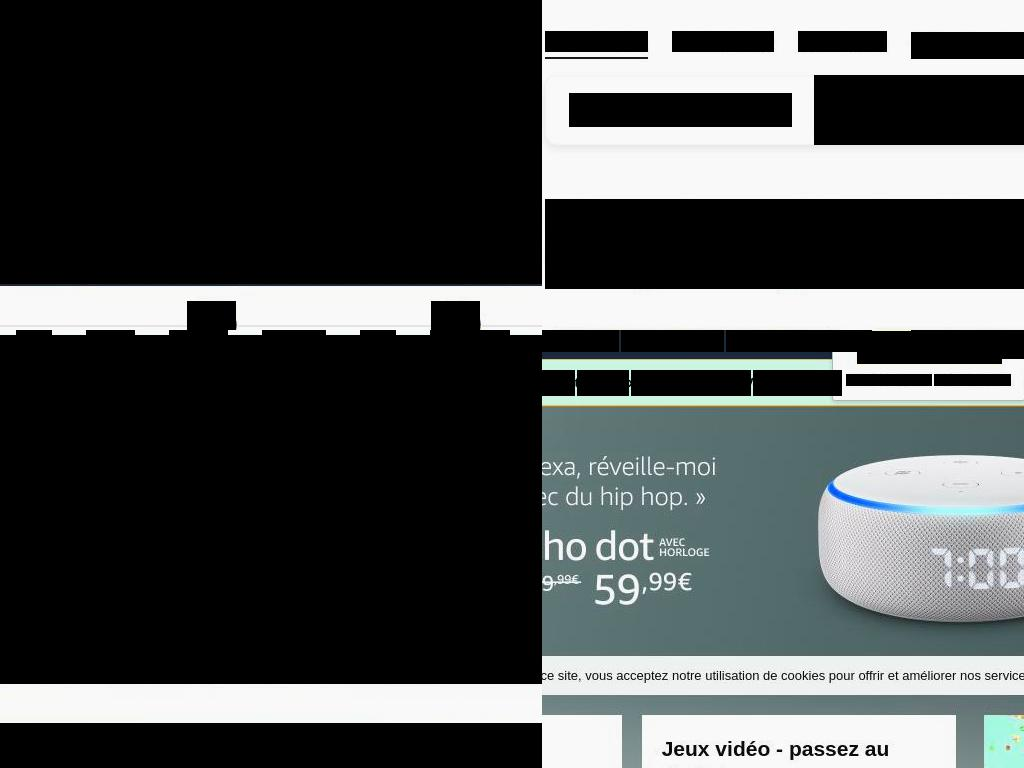button: (814, 75, 1024, 145), (857, 331, 1002, 364), (88, 603, 218, 639), (911, 330, 1024, 359), (726, 330, 872, 352), (680, 414, 802, 440), (631, 370, 751, 396), (691, 458, 810, 484), (911, 32, 1024, 59), (568, 414, 678, 440), (753, 370, 842, 396), (621, 330, 724, 352), (542, 458, 629, 484), (542, 330, 619, 352), (631, 458, 689, 484), (577, 370, 629, 396), (844, 370, 887, 396), (542, 370, 575, 396), (542, 414, 566, 440)
field: (569, 109, 792, 127)
heading: (545, 199, 1024, 289), (0, 515, 203, 594), (661, 735, 937, 768)
image: (0, 335, 542, 684), (0, 0, 542, 284), (0, 234, 542, 284), (911, 330, 1024, 359), (187, 301, 236, 330), (431, 301, 480, 330), (197, 616, 203, 627)
link: (934, 374, 1011, 386)
text: (0, 234, 542, 284), (542, 375, 1024, 390), (542, 668, 1024, 683), (858, 332, 1001, 362), (569, 93, 792, 109), (838, 109, 1024, 127), (911, 32, 1024, 59), (838, 93, 1024, 109), (545, 31, 648, 52), (672, 31, 774, 52), (798, 31, 887, 52), (38, 603, 88, 639), (103, 614, 197, 630), (846, 374, 932, 386)
